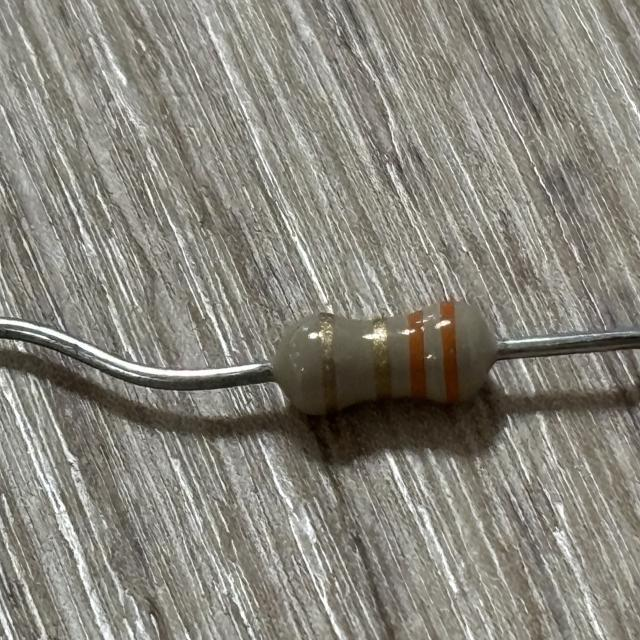resistor: (290, 299, 484, 422)
